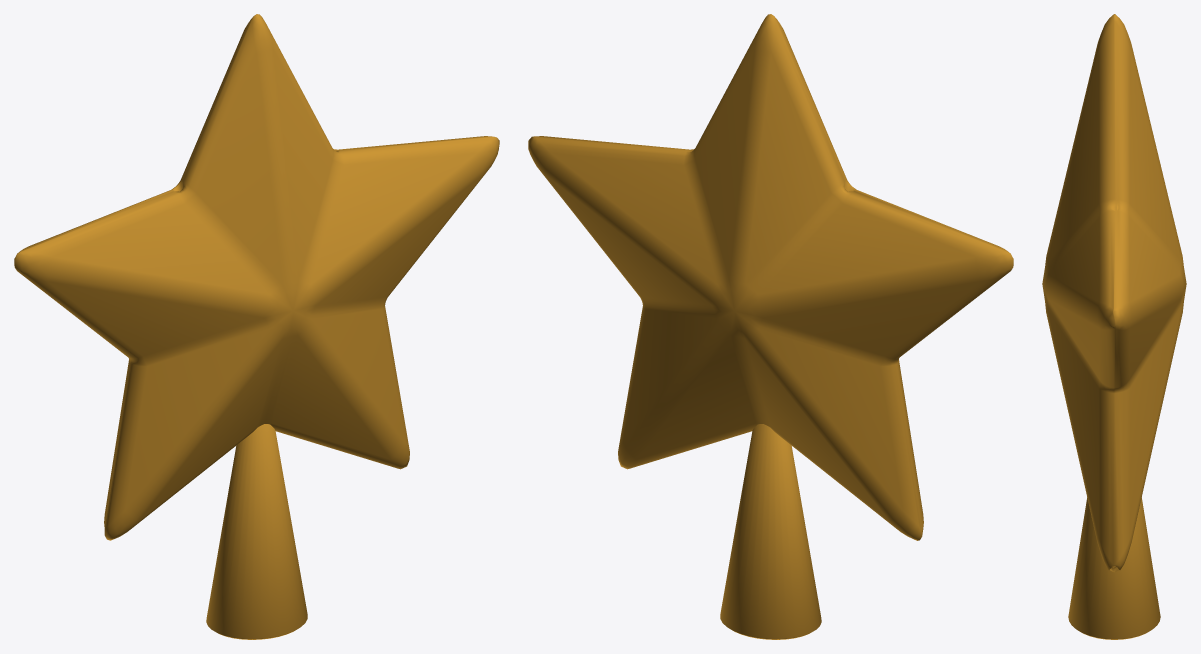
File: star.glb
The picture shows the model from 3 angles, left to right: view 1: azimuth 30°, elevation 25°; view 2: azimuth 150°, elevation 25°; view 3: azimuth 270°, elevation 25°; orthographic projection.
Parts seen in each view (by area): view 1: Object_2; view 2: Object_2; view 3: Object_2.
Part boxes in pixels (x1=…): Object_2: x1=14, y1=14, x2=499, y2=639; Object_2: x1=528, y1=14, x2=1013, y2=639; Object_2: x1=1042, y1=14, x2=1186, y2=639.
Bounding box in the file's own units: 1.89 × 2.26 × 0.4884.
